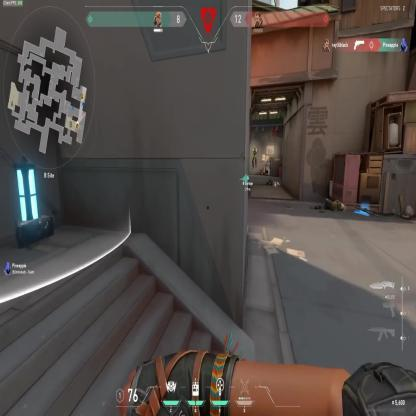enemy: (252, 145, 257, 169)
enemy_head: (254, 145, 256, 149)
